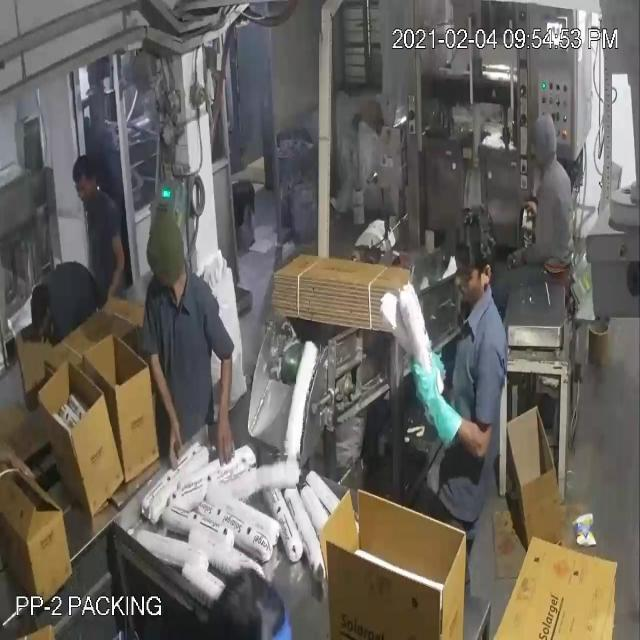No_Gloves: (29, 81, 438, 414)
